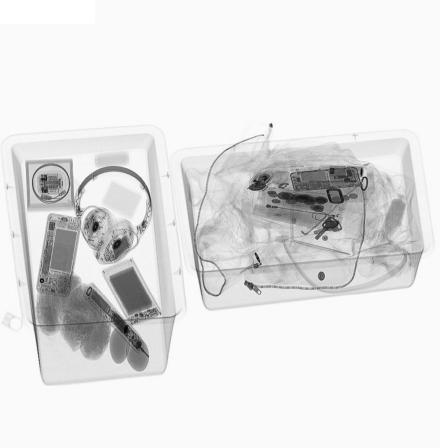Powerbank: (101, 258, 164, 327)
